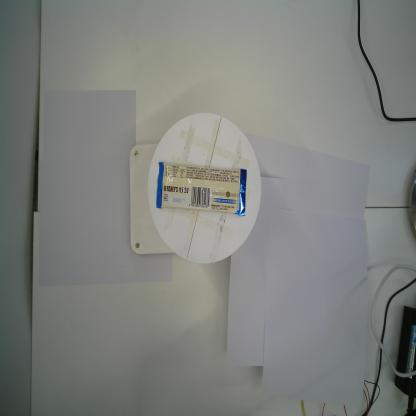Chocolate: (156, 160, 248, 217)
